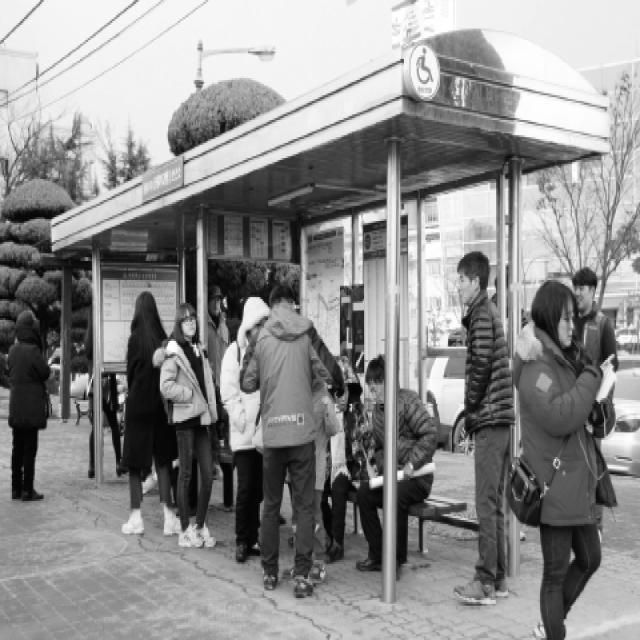person: (437, 252, 527, 602), (524, 271, 601, 634), (257, 281, 322, 585), (360, 352, 434, 574), (166, 290, 224, 550), (118, 290, 177, 542), (4, 306, 70, 504), (233, 304, 278, 558), (324, 348, 370, 570), (571, 251, 617, 403), (206, 282, 237, 368)
